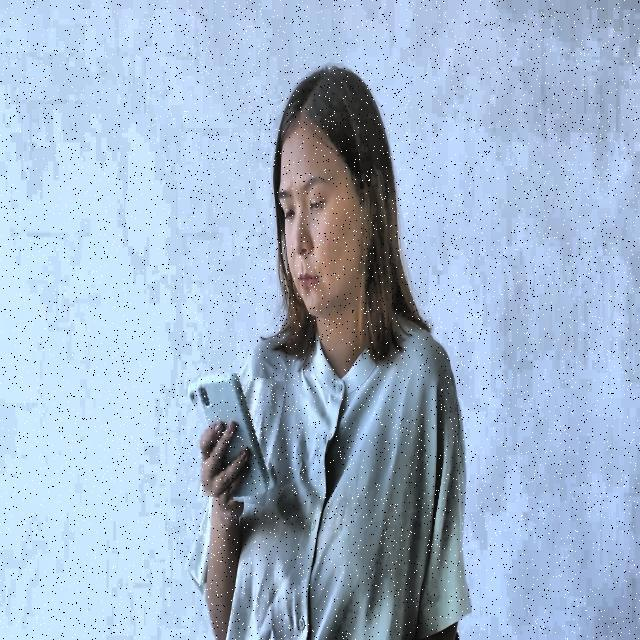Phone: (182, 370, 281, 503)
